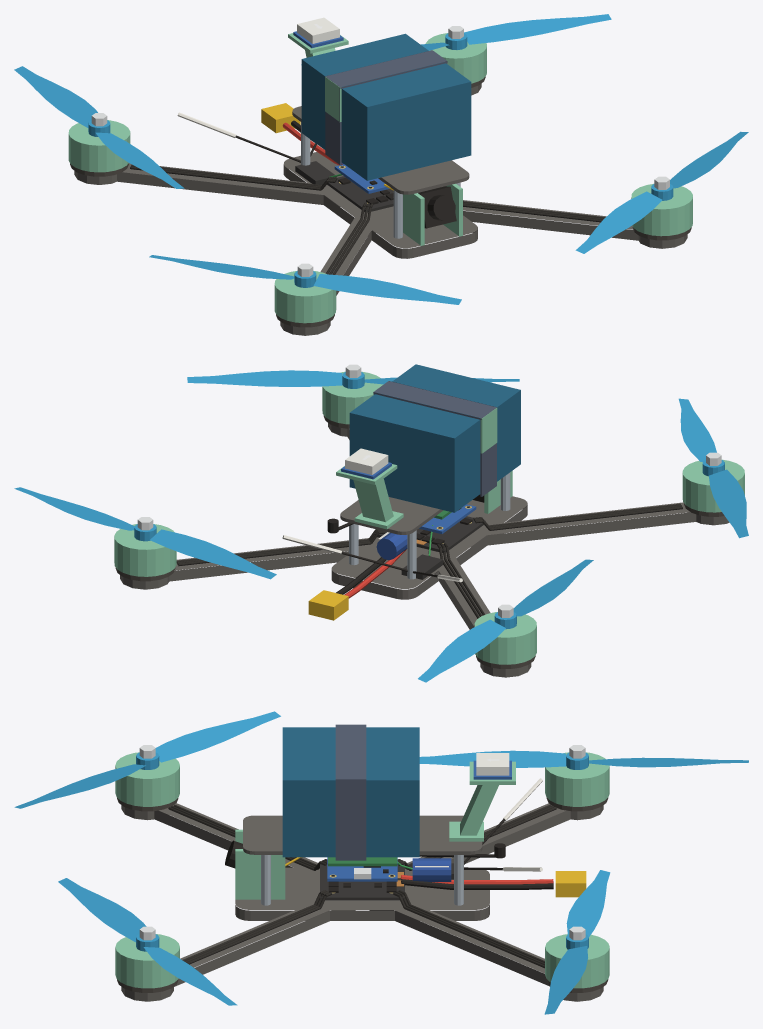
The model's file is longrange.glb.
3 views of the same model, one above another, from view 1: azimuth 30°, elevation 25°; view 2: azimuth 150°, elevation 25°; view 3: azimuth 270°, elevation 25° (orthographic). The views are drawn at different scales.
Visible parts, largest first — view 1: static, static.cover, prop:M2, prop:M4, prop:M1, prop:M3; view 2: static, static.cover, prop:M3, prop:M1, prop:M2, prop:M4; view 3: static, static.cover, prop:M2, prop:M4, prop:M3, prop:M1.
Part boxes in pixels (x1,y1,x2,y2): static: [68, 17, 692, 335]; static.cover: [288, 33, 471, 238]; prop:M2: [149, 255, 461, 304]; prop:M4: [575, 131, 748, 253]; prop:M1: [14, 66, 184, 188]; prop:M3: [301, 14, 611, 64]; static: [114, 364, 744, 677]; static.cover: [336, 364, 520, 579]; prop:M3: [14, 487, 276, 579]; prop:M1: [418, 559, 593, 682]; prop:M2: [678, 398, 748, 538]; prop:M4: [187, 370, 519, 386]; static: [115, 745, 609, 1001]; static.cover: [243, 724, 515, 905]; prop:M2: [14, 711, 280, 808]; prop:M4: [58, 878, 237, 1005]; prop:M3: [544, 870, 610, 1014]; prop:M1: [419, 750, 748, 767].
Bounding box in the file's own units: 0.3707 × 0.0845 × 0.3809.
